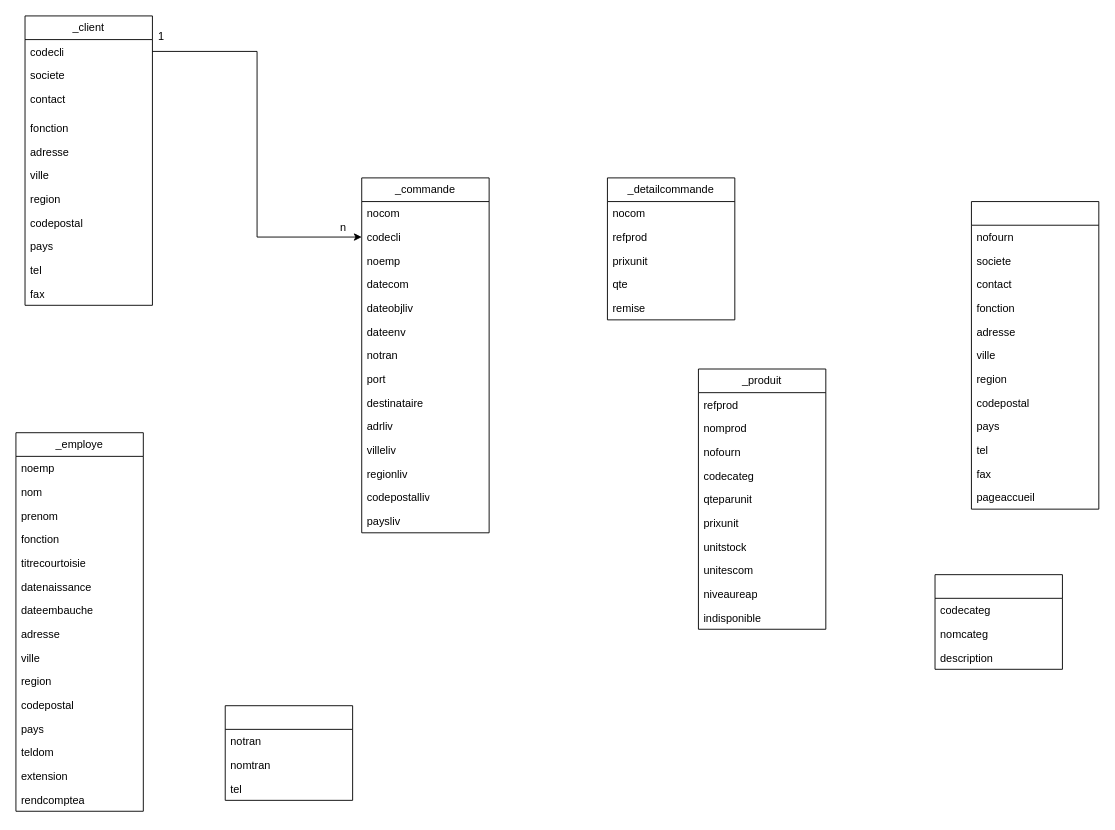
The diagram is 1115 pixels wide and 830 high, and some of its shapes have lost their labels. The box of each missing label's shape, as (x1, y1, x2, y2) in pixels:
_categorie: (934, 574, 1062, 669)
_fournisseur: (971, 201, 1099, 509)
_transporteur: (224, 705, 353, 800)
